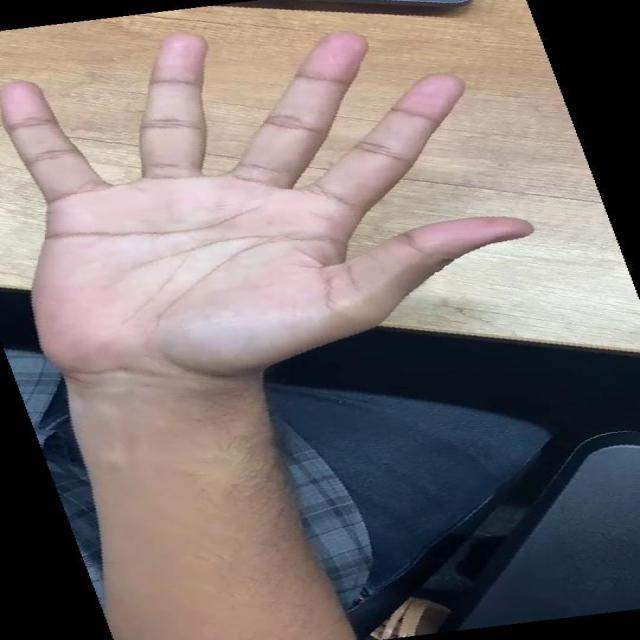no-gloves: (2, 27, 621, 381)
